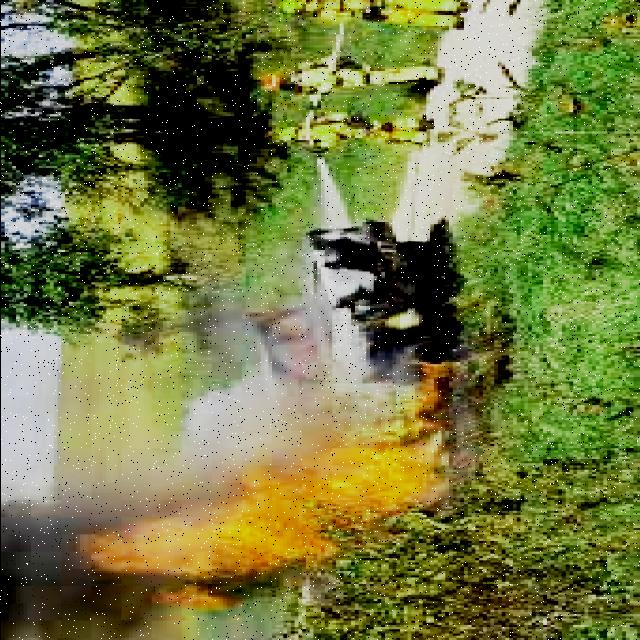api: (65, 482, 333, 624), (250, 318, 472, 476)
